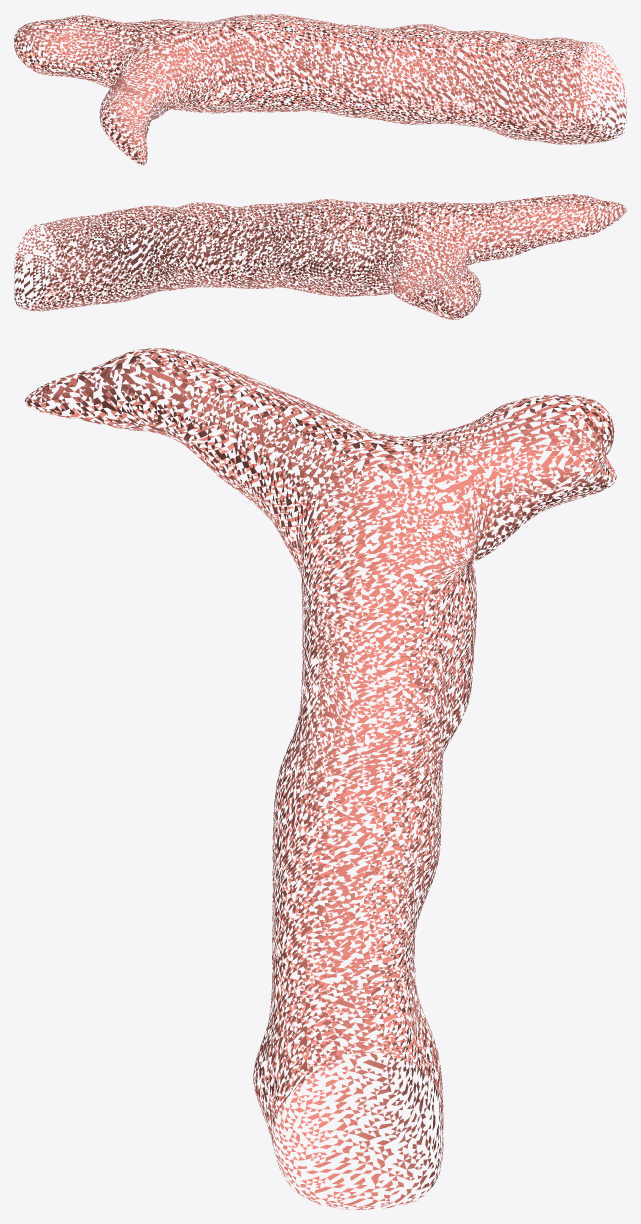
File: diseased.glb
The picture shows the model from 3 angles, top to bottom: view 1: azimuth 30°, elevation 25°; view 2: azimuth 150°, elevation 25°; view 3: azimuth 270°, elevation 25°; orthographic projection. The views are drawn at different scales.
Bounding box in the file's own units: 124 × 43.83 × 61.86.
